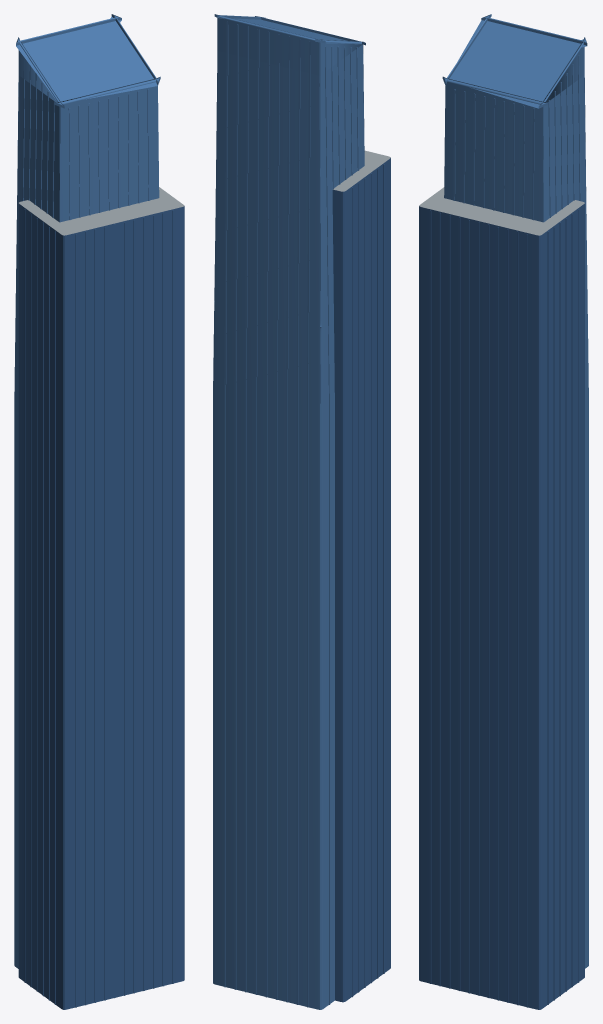
The model's file is nanning-guangxi-china-resources-tower.detail.glb.
3 renders of one model, left to right at view 1: azimuth 30°, elevation 25°; view 2: azimuth 150°, elevation 25°; view 3: azimuth 330°, elevation 25°, orthographic. The views are drawn at different scales.
Parts seen in each view (by area): view 1: Guangxi China Resources Tower; view 2: Guangxi China Resources Tower; view 3: Guangxi China Resources Tower.
Boxes of the visible parts, <box> form: Guangxi China Resources Tower: <box>14,14,184,1009</box>; Guangxi China Resources Tower: <box>213,14,390,1009</box>; Guangxi China Resources Tower: <box>419,14,588,1009</box>.
Size of the model in its own units: 56.35 by 405 by 47.09.
